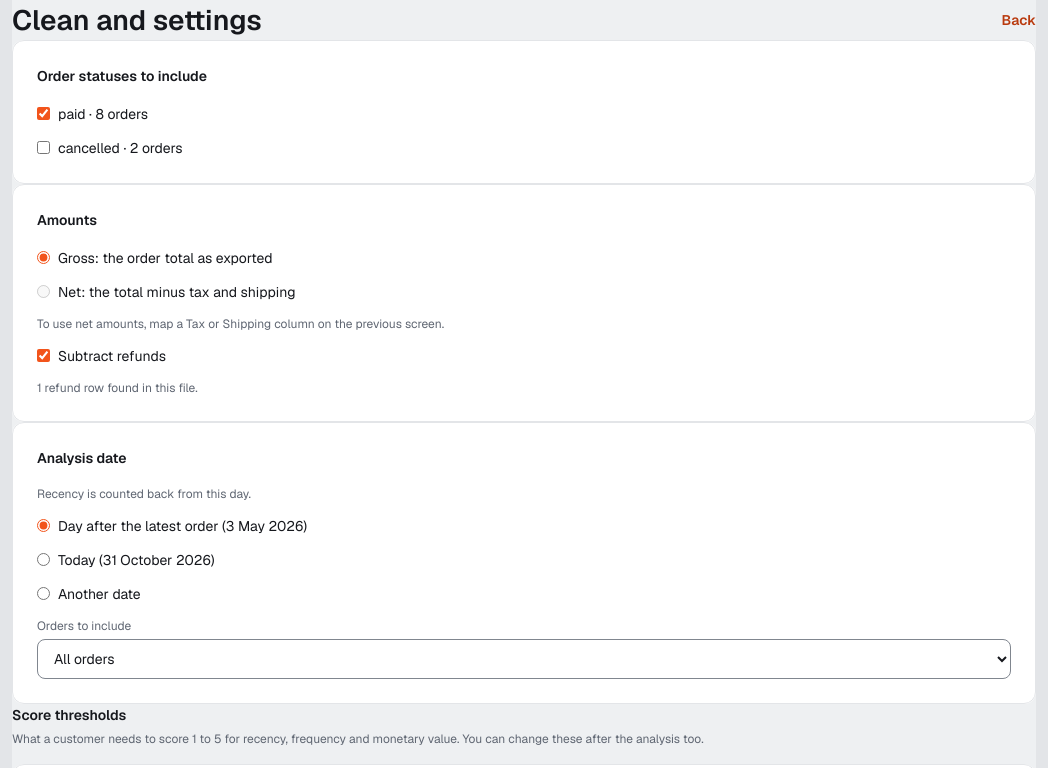
Test case: CleanScreen (story 3) › warns when more than half of the orders are left out
Click the checkbox labelled "paid · 8 orders". click: click(44, 114)
box: [37,107,50,120]
(page scrolled)
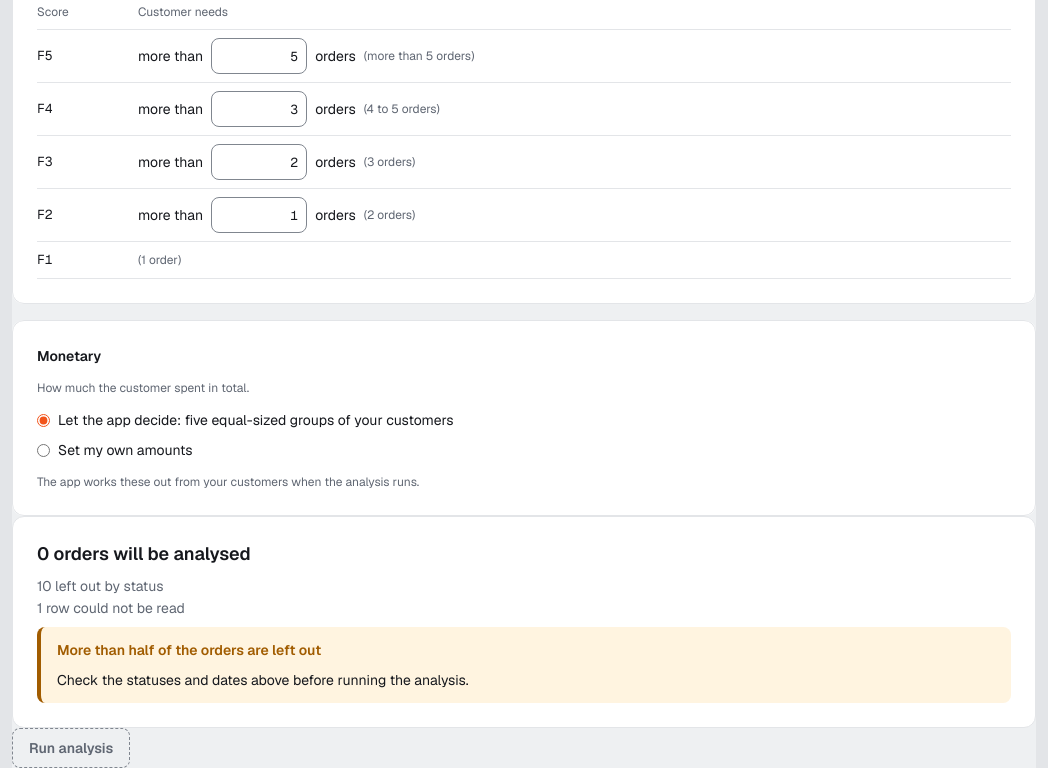
Now the message shows "More than half", box [57,641,321,659]
